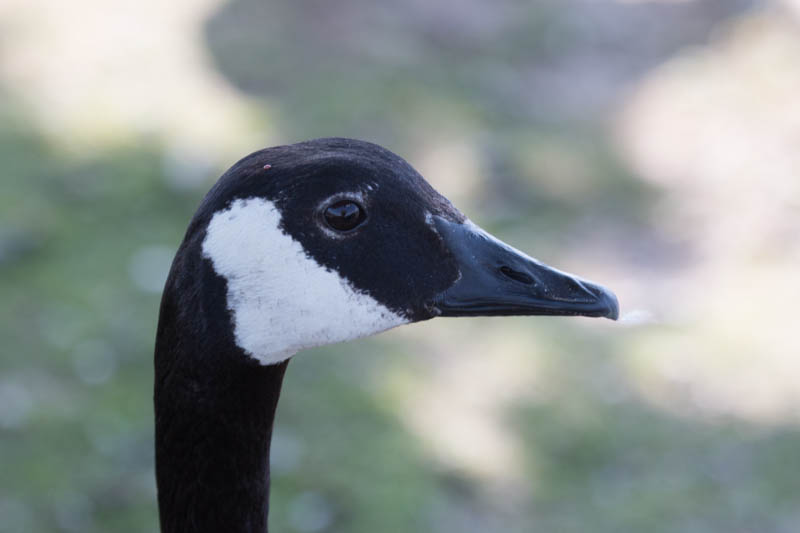goose-head: (155, 136, 620, 365)
